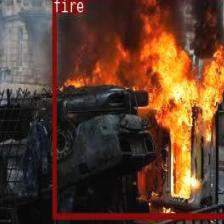fire: (51, 0, 224, 218)
